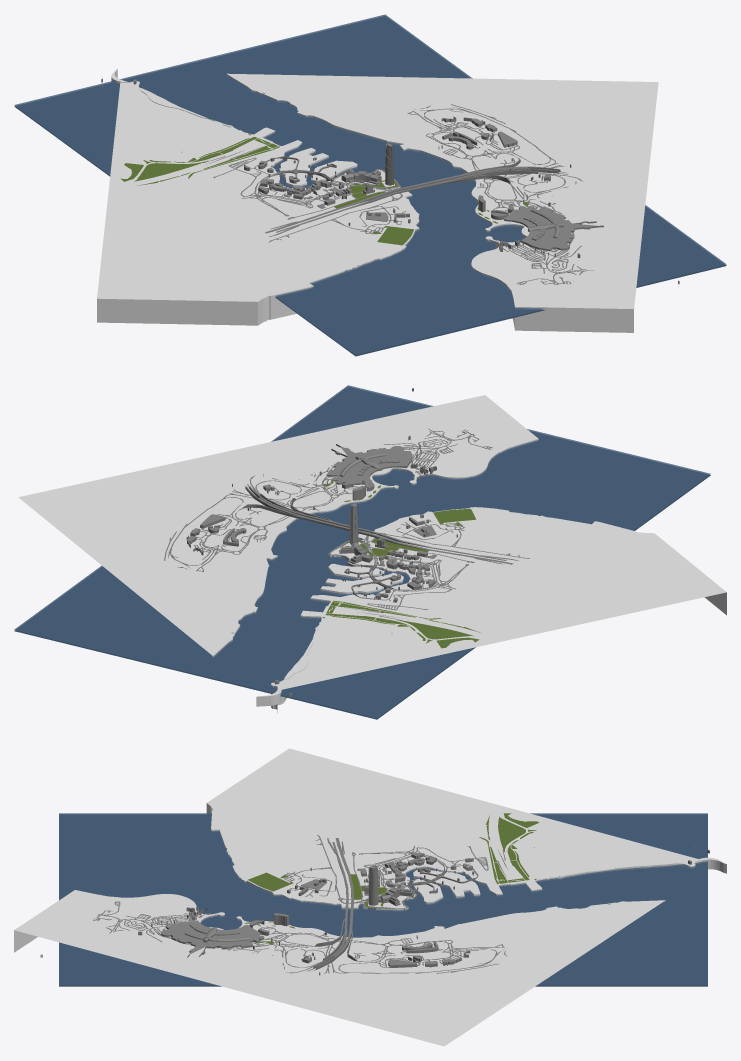
The model's file is map.glb.
3 views of the same model, one above another, from view 1: azimuth 30°, elevation 25°; view 2: azimuth 150°, elevation 25°; view 3: azimuth 270°, elevation 25° (orthographic). The views are drawn at different scales.
Parts seen in each view (by area): view 1: land, water, road, build, tree; view 2: land, water, road, build, tree; view 3: land, water, road, build, tree.
Part boxes in pixels (box(x1,y1,x2,y2)): land: box(97, 68, 658, 332); water: box(14, 14, 726, 356); road: box(203, 104, 593, 284); build: box(101, 78, 679, 284); tree: box(121, 134, 529, 245); land: box(18, 395, 726, 713); water: box(14, 385, 710, 719); road: box(164, 428, 529, 620); build: box(186, 388, 457, 696); tree: box(322, 467, 481, 648); land: box(14, 748, 726, 1046); water: box(59, 813, 707, 986); road: box(93, 835, 507, 973); build: box(40, 846, 709, 975); tree: box(245, 813, 539, 943).
Bounding box in the file's own units: 4380 × 414 × 4427.
Materials: 6 (2 with a texture image).
